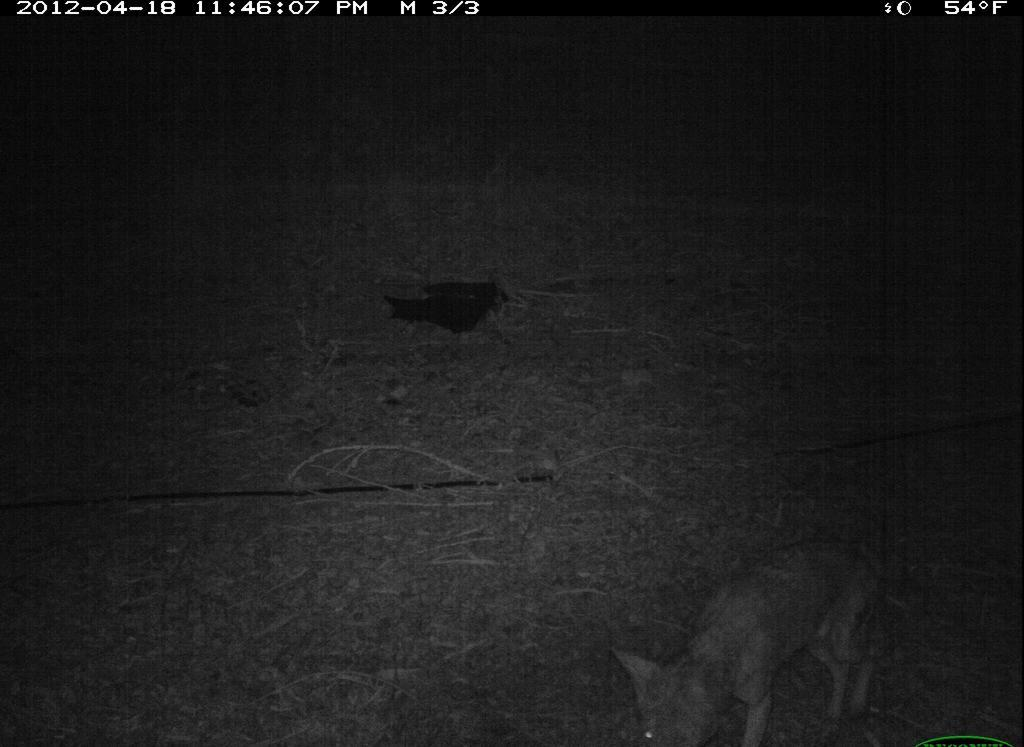coyote: (594, 510, 890, 745)
